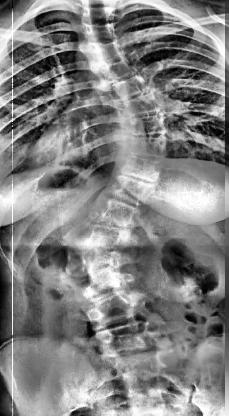Vertebrae: (88, 323, 174, 351), (86, 196, 146, 228), (82, 299, 154, 323), (92, 56, 152, 84), (66, 276, 134, 300), (65, 248, 126, 274), (116, 136, 174, 162), (68, 226, 130, 250), (116, 112, 172, 138), (115, 156, 165, 182), (76, 26, 132, 48), (116, 95, 166, 119), (105, 178, 153, 202), (111, 78, 159, 102), (74, 5, 126, 27), (82, 45, 134, 63)
